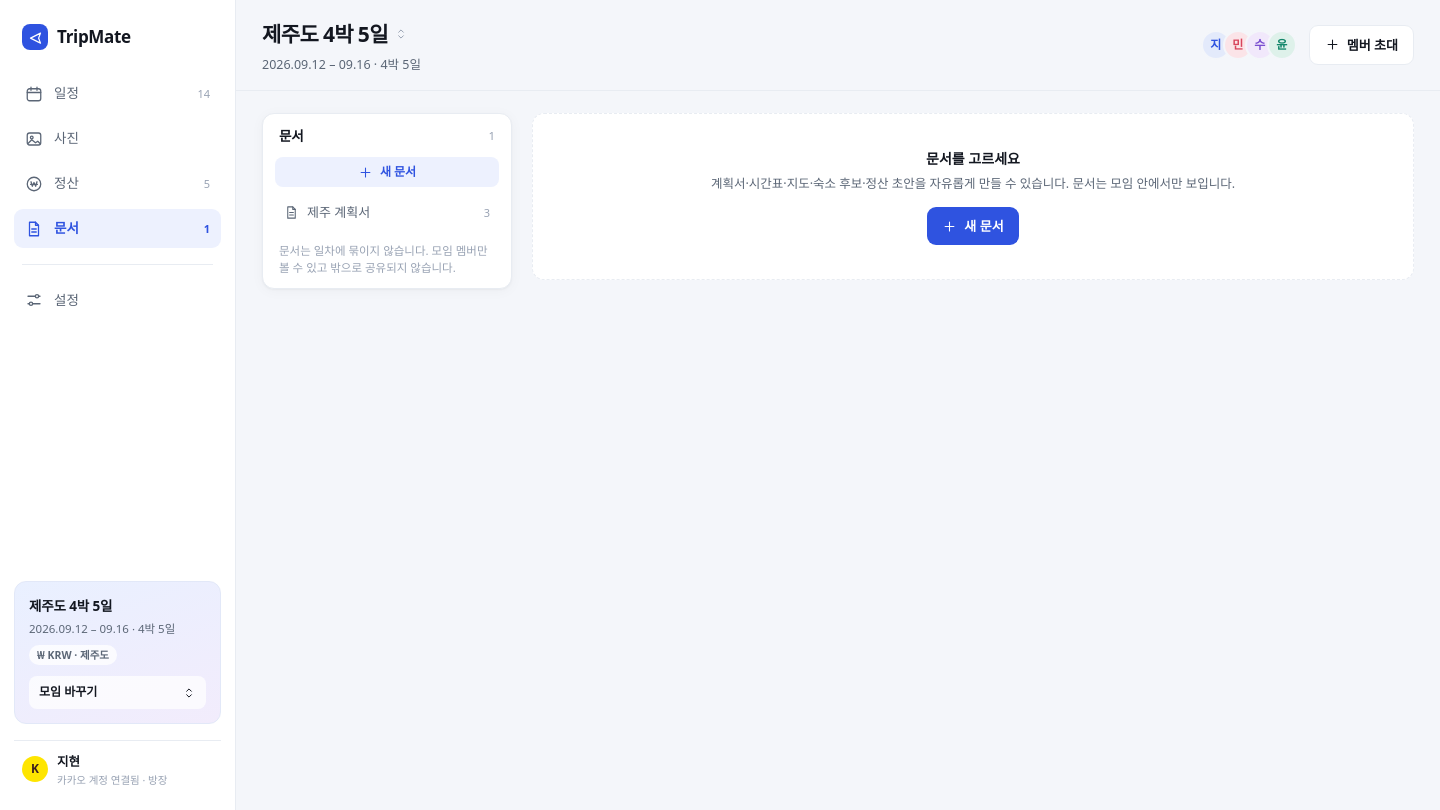
Test: 문서 목록 › 새 문서는 모달이 아니라 목록 위 인라인 입력이다
Expected: the text "제주 계획서" is shown, [307,202,370,222]
Expected: the field with placeholder "문서 제목" is not shown
Click the 1st button "새 문서" at (387, 172), box [275,157,499,187]
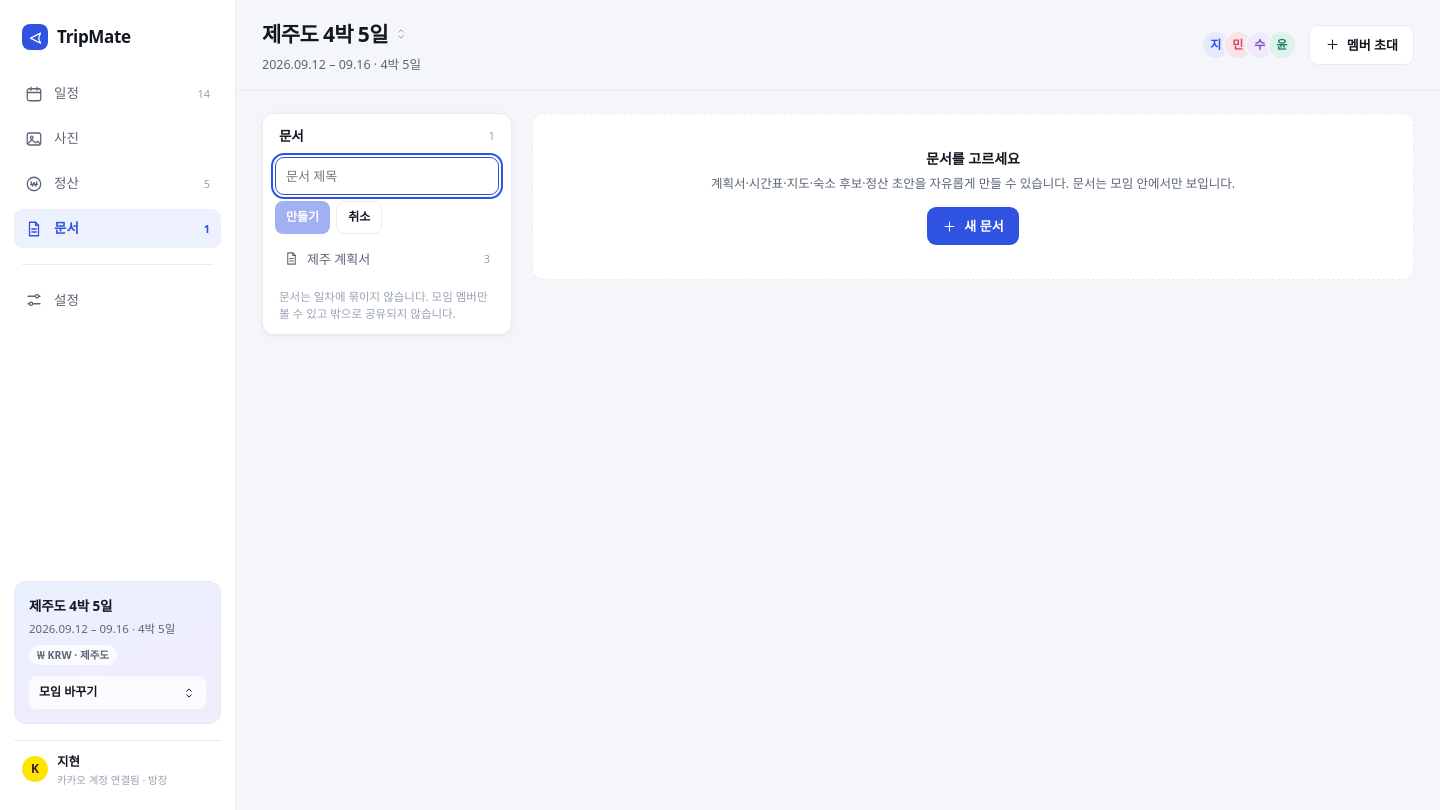
Result: the field with placeholder "문서 제목" is shown at [275,157,499,195]
